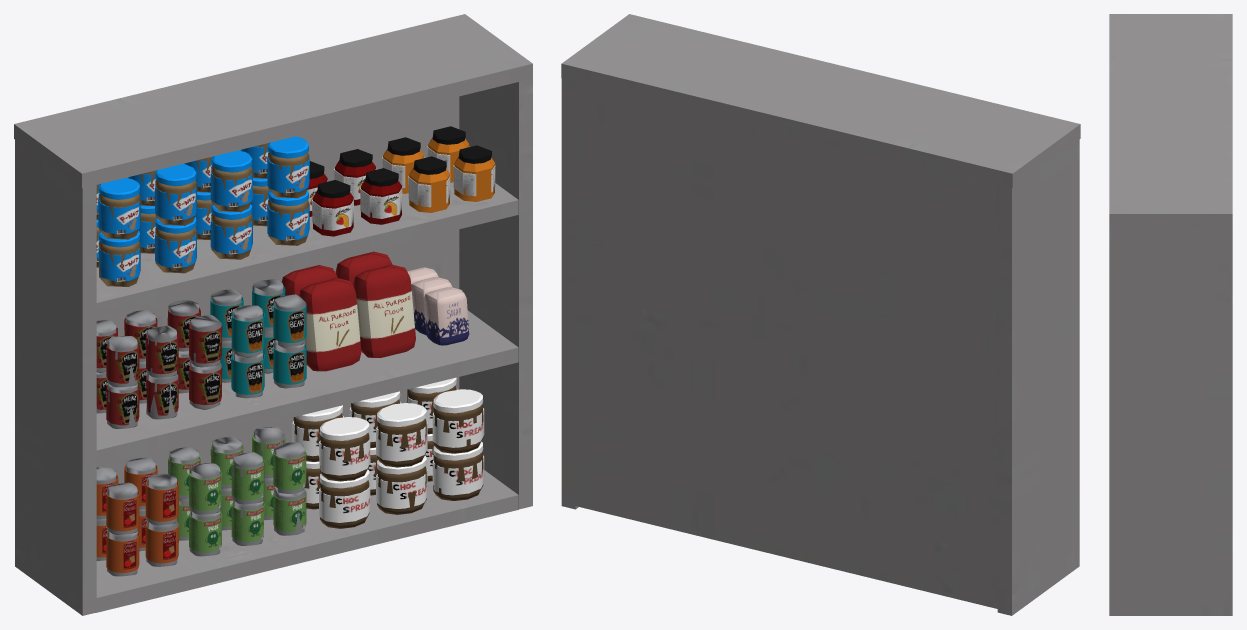
Rendered from OBJ-store_shelf.glb.
3 renders of one model, left to right at view 1: azimuth 30°, elevation 25°; view 2: azimuth 150°, elevation 25°; view 3: azimuth 270°, elevation 25°, orthographic. The views are drawn at different scales.
Parts seen in each view (by area): view 1: defaultMaterial (×18); view 2: defaultMaterial; view 3: defaultMaterial.
Part boxes in pixels (left/top/right/bottom): defaultMaterial (×18): left=14, top=14, right=532, bottom=615; defaultMaterial: left=561, top=14, right=1080, bottom=615; defaultMaterial: left=1109, top=14, right=1232, bottom=615.
Bounding box in the file's own units: 1.8 × 1.69 × 0.4692.
Materials: 18 (12 with a texture image).
